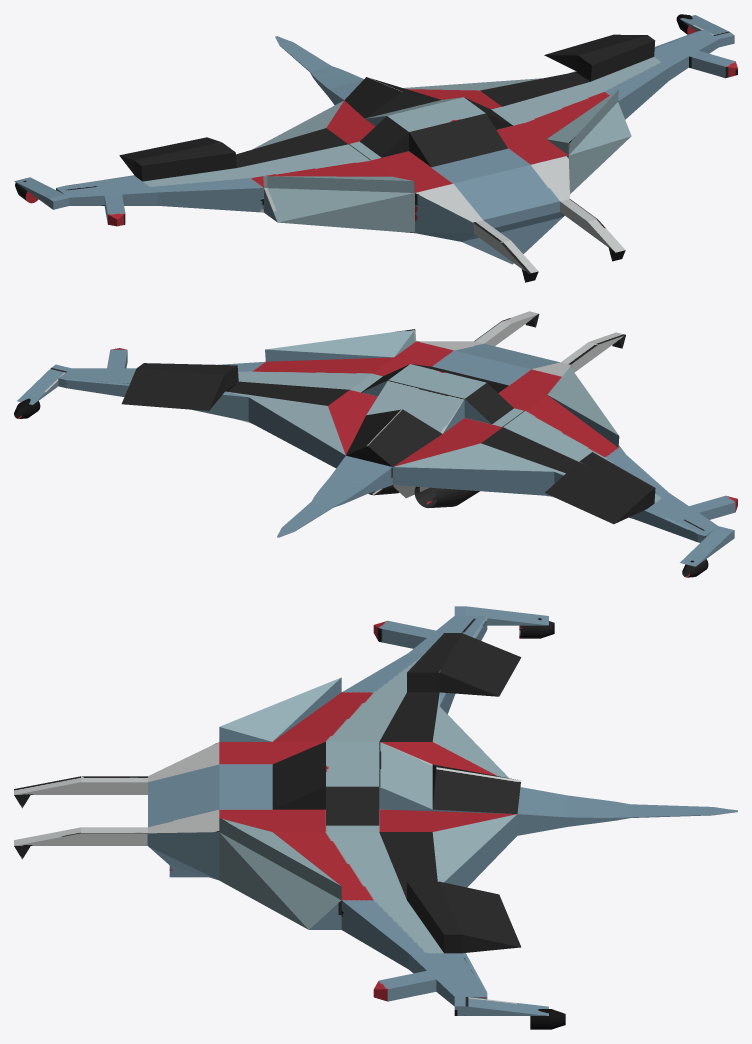
Rendered from SpaceShip#1_BlackSky_NoHole.fbx.
The picture shows the model from 3 angles, top to bottom: view 1: azimuth 30°, elevation 25°; view 2: azimuth 150°, elevation 25°; view 3: azimuth 270°, elevation 25°; orthographic projection. The views are drawn at different scales.
Visible parts, largest first — view 1: SpaceShip#1; view 2: SpaceShip#1; view 3: SpaceShip#1.
Boxes of the visible parts, <box> form: SpaceShip#1: <box>14,14,737,282</box>; SpaceShip#1: <box>14,311,737,577</box>; SpaceShip#1: <box>14,606,737,1029</box>.
Bounding box in the file's own units: 3551 × 520 × 2713.
